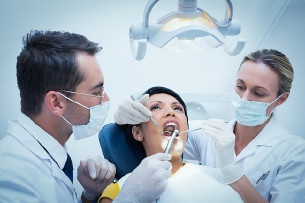Mask: (230, 76, 280, 126)
